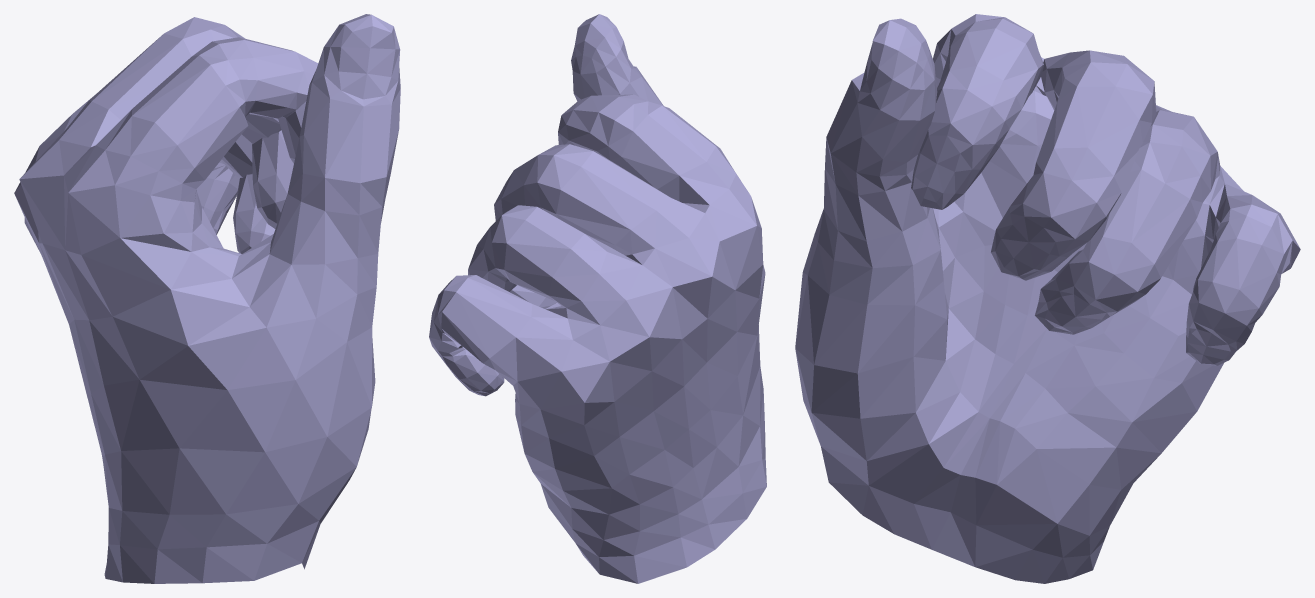
The model's file is frame_0078_source_000078_hand.glb.
3 renders of one model, left to right at view 1: azimuth 30°, elevation 25°; view 2: azimuth 150°, elevation 25°; view 3: azimuth 270°, elevation 25°, orthographic. The views are drawn at different scales.
Parts seen in each view (by area): view 1: world; view 2: world; view 3: world.
Part boxes in pixels (bbox=[...]): world: bbox=[14, 14, 400, 583]; world: bbox=[429, 14, 766, 583]; world: bbox=[795, 14, 1300, 583].
Size of the model in its own units: 0.0641 by 0.1236 by 0.0944.
